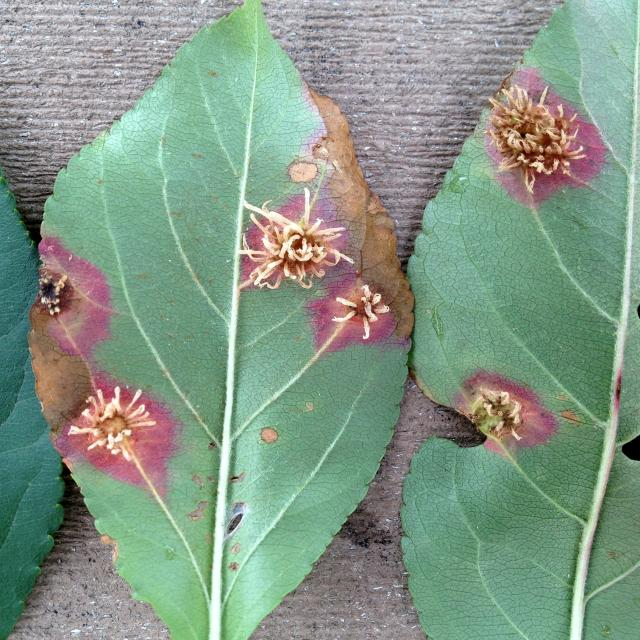Gymnosporangium_Rusts: (33, 51, 640, 566)
